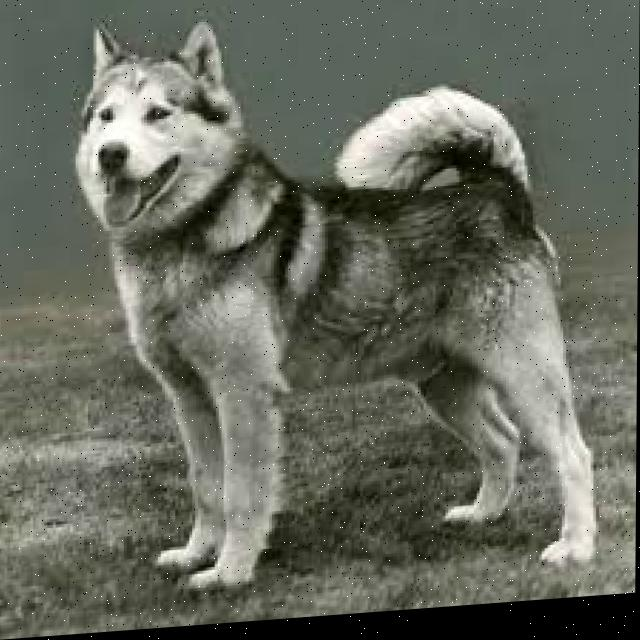ALASKAN_MALAMUTE: (45, 0, 608, 617)
